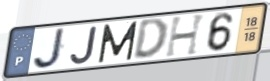6: (206, 11, 237, 53)
D: (131, 17, 169, 61)
H: (164, 12, 208, 59)
J: (32, 26, 68, 71), (68, 25, 100, 67)
M: (97, 20, 140, 65)
